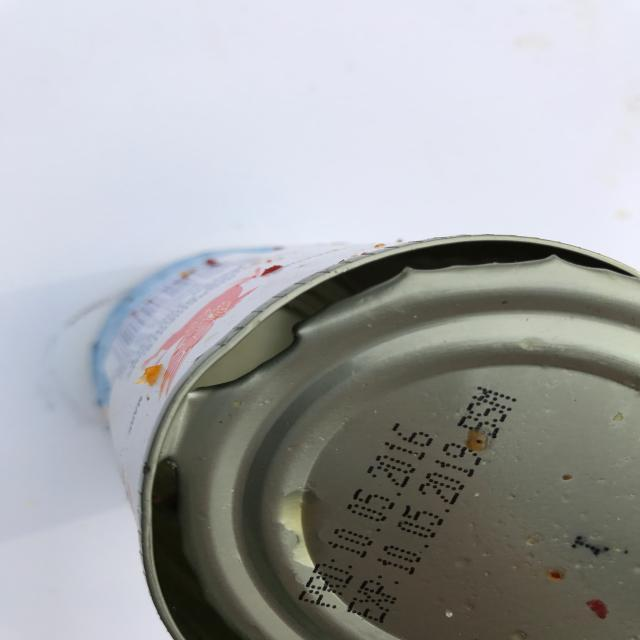metal: (85, 231, 640, 640)
